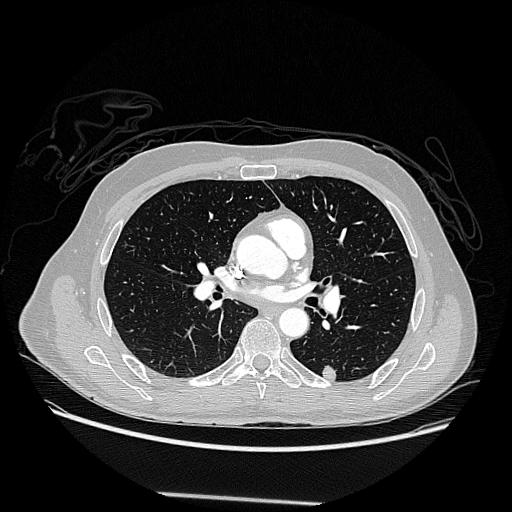nodule: (320, 364, 339, 383)
